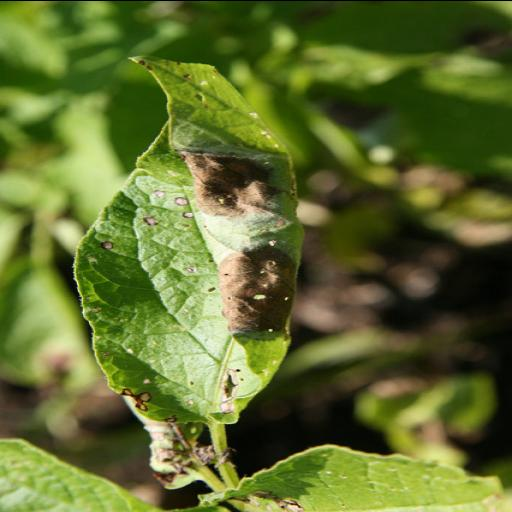Late Blight: (68, 46, 314, 428)
